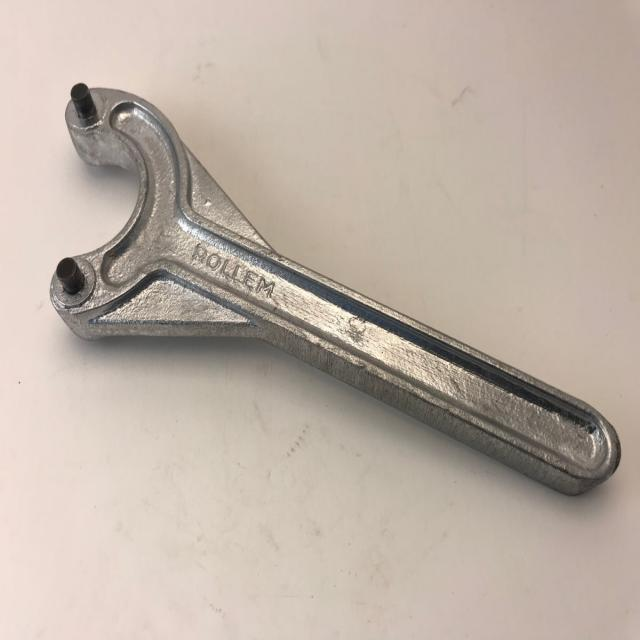wrench: (46, 78, 624, 502)
